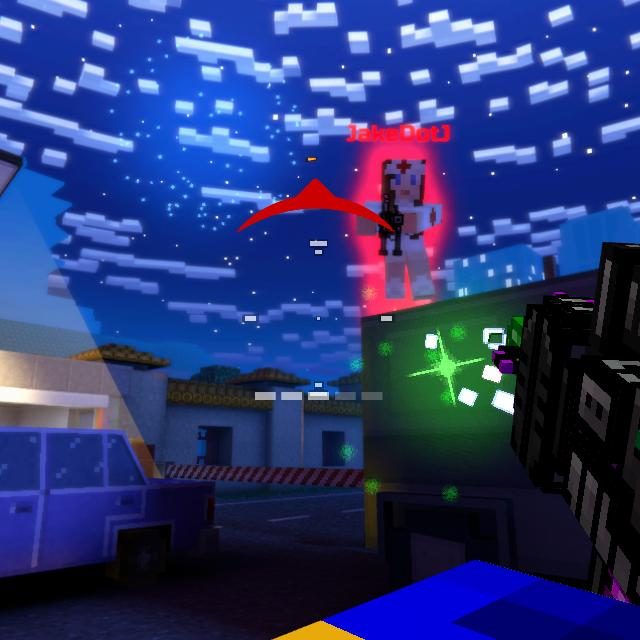Enemy: (358, 158, 444, 302)
